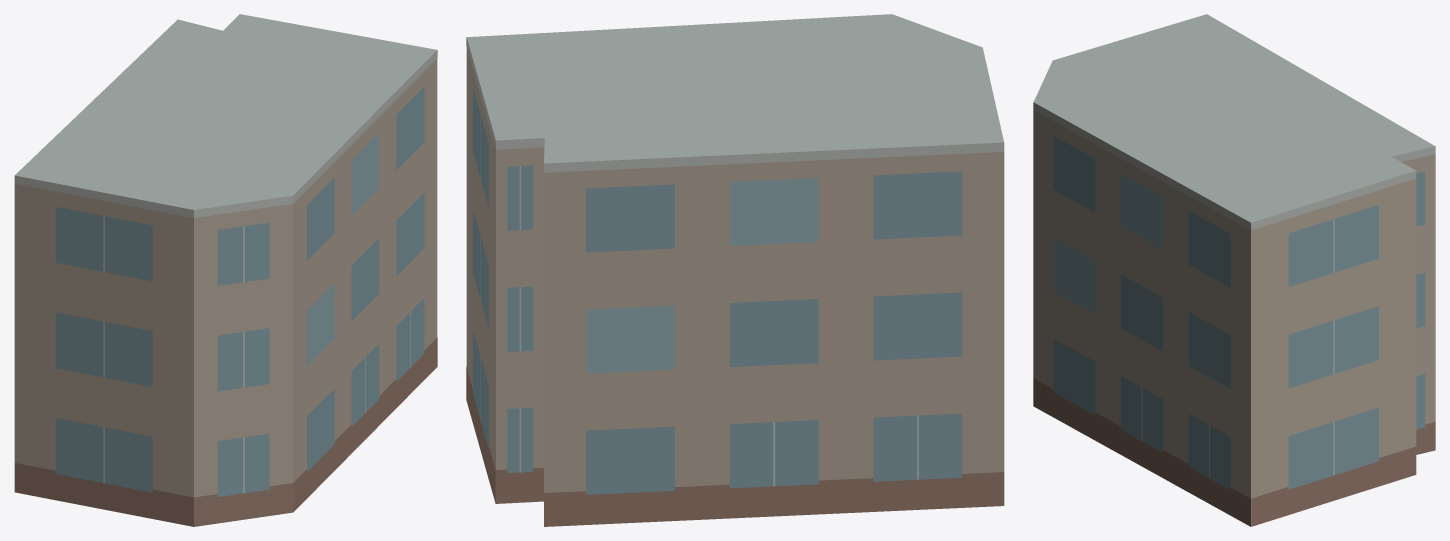
Rendered from survey-upis-32949643.glb.
3 renders of one model, left to right at view 1: azimuth 30°, elevation 25°; view 2: azimuth 150°, elevation 25°; view 3: azimuth 270°, elevation 25°, orthographic. The views are drawn at different scales.
Visible parts, largest first — view 1: survey-upis-32949643.tmp; view 2: survey-upis-32949643.tmp; view 3: survey-upis-32949643.tmp.
Boxes of the visible parts, bbox=[...] form: survey-upis-32949643.tmp: bbox=[14, 14, 437, 526]; survey-upis-32949643.tmp: bbox=[466, 14, 1004, 526]; survey-upis-32949643.tmp: bbox=[1033, 14, 1435, 526].
Bounding box in the file's own units: 14.12 × 9.58 × 11.5.
